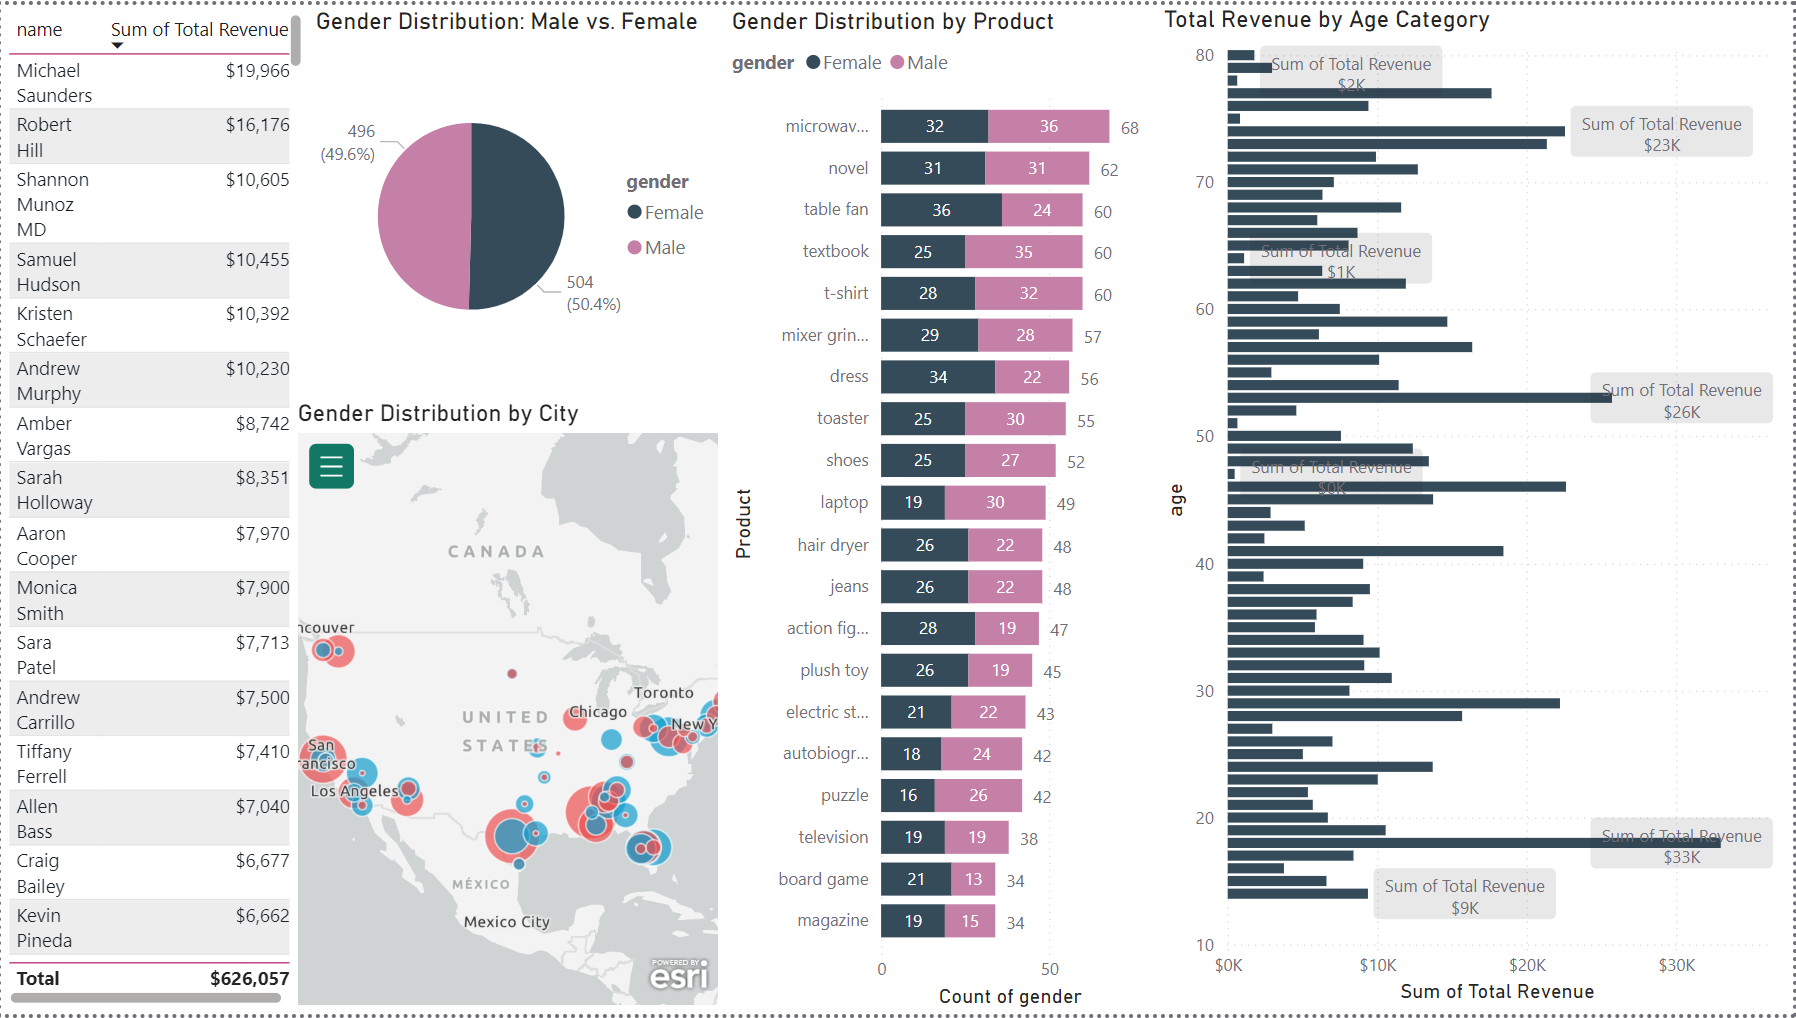

What the dashboard file says about the page in this screenshot:
{"tool":"powerbi","page":{"name":"Customer Demographic","canvas":[1280,720],"ordinal":0},"visuals":[{"type":"tableEx","fields":{"Values":["Online_retail_sales.name","Online_retail_sales.Total Revenue"]},"box":[0,1.7,220,716.7],"z":0},{"type":"pieChart","title":"Gender Distribution: Male vs. Female","fields":{"Category":["Online_retail_sales.gender"],"Y":["Online_retail_sales.gender"]},"box":[220,1.7,296.7,280],"z":1000},{"type":"esriVisual","title":"Gender Distribution by City","fields":{"Color":["Online_retail_sales.gender"],"Location":["Online_retail_sales.city"],"Size":["Online_retail_sales.gender"]},"box":[207.1,281.4,310,437.1],"z":2000},{"type":"barChart","title":"Gender Distribution by Product","fields":{"Category":["Online_retail_sales.Product"],"Series":["Online_retail_sales.gender"],"Y":["Online_retail_sales.gender"]},"box":[516.7,1.7,308.3,718.3],"z":3000},{"type":"clusteredBarChart","title":"Total Revenue by Age Category","fields":{"Y":["Online_retail_sales.Total Revenue"],"Category":["Online_retail_sales.age"]},"box":[825,0,455,716.7],"z":4000}]}

Visuals, with their boxes in screenshot pixels (x1, y1, x2, y2), scaled from the page's 1280x720 canvas onto the 1796x1018 screenshot:
tableEx - Online_retail_sales.name x Online_retail_sales.Total Revenue: BBox(0, 2, 309, 1016)
"Gender Distribution: Male vs. Female" pieChart: BBox(309, 2, 725, 398)
"Gender Distribution by City" esriVisual: BBox(291, 398, 726, 1016)
"Gender Distribution by Product" barChart: BBox(725, 2, 1158, 1017)
"Total Revenue by Age Category" clusteredBarChart: BBox(1158, 0, 1795, 1013)
